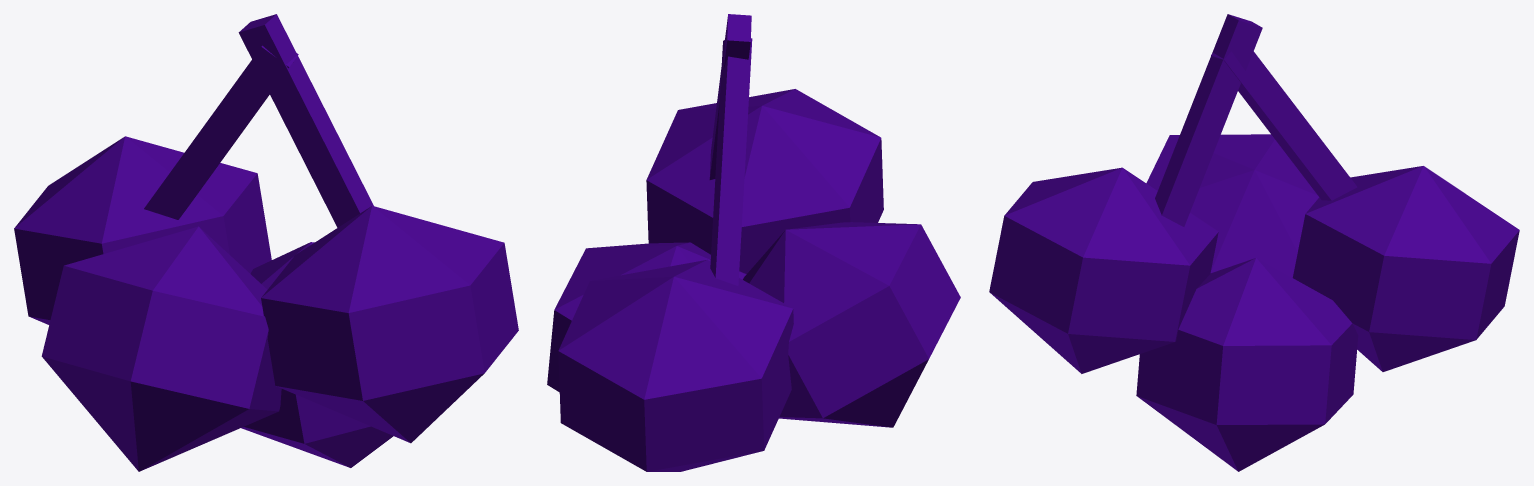
Rendered from BerriesOther.fbx.
The picture shows the model from 3 angles, left to right: view 1: azimuth 30°, elevation 25°; view 2: azimuth 150°, elevation 25°; view 3: azimuth 270°, elevation 25°; orthographic projection. The views are drawn at different scales.
Parts seen in each view (by area): view 1: polySurface20; view 2: polySurface20; view 3: polySurface20.
Boxes of the visible parts, bbox=[...] form: polySurface20: bbox=[14, 14, 518, 471]; polySurface20: bbox=[547, 14, 960, 471]; polySurface20: bbox=[989, 14, 1519, 471].
Bounding box in the file's own units: 0.7353 × 0.8483 × 0.9724.
